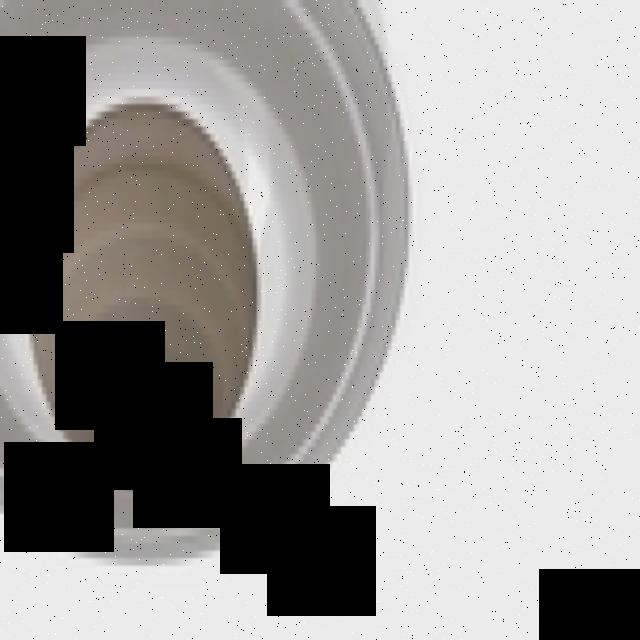Saturn: (0, 0, 412, 573)
